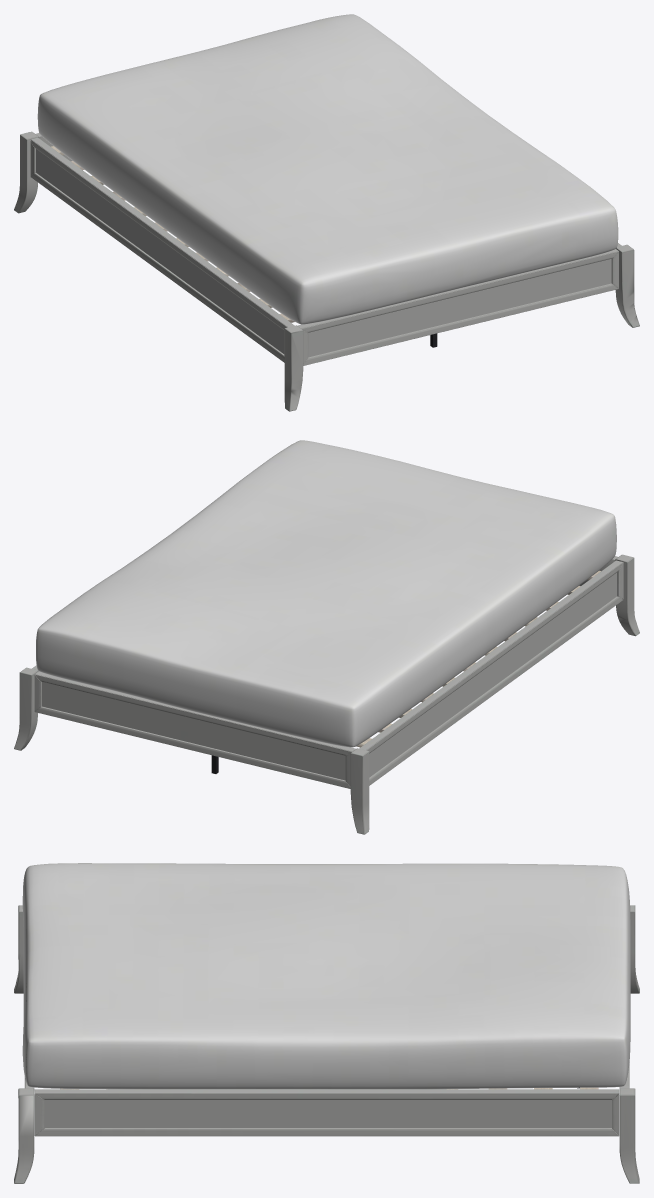
3 views of the same model, one above another, from view 1: azimuth 30°, elevation 25°; view 2: azimuth 150°, elevation 25°; view 3: azimuth 270°, elevation 25° (orthographic). The views are drawn at different scales.
Visible parts, largest first — view 1: RootNode; view 2: RootNode; view 3: RootNode.
Boxes of the visible parts, left/top/right/bottom form: RootNode: left=14, top=14, right=639, bottom=411; RootNode: left=14, top=440, right=639, bottom=834; RootNode: left=14, top=863, right=639, bottom=1183.
Size of the model in its own units: 1.46 by 0.5097 by 1.99.
Materials: 1 (1 with a texture image).
